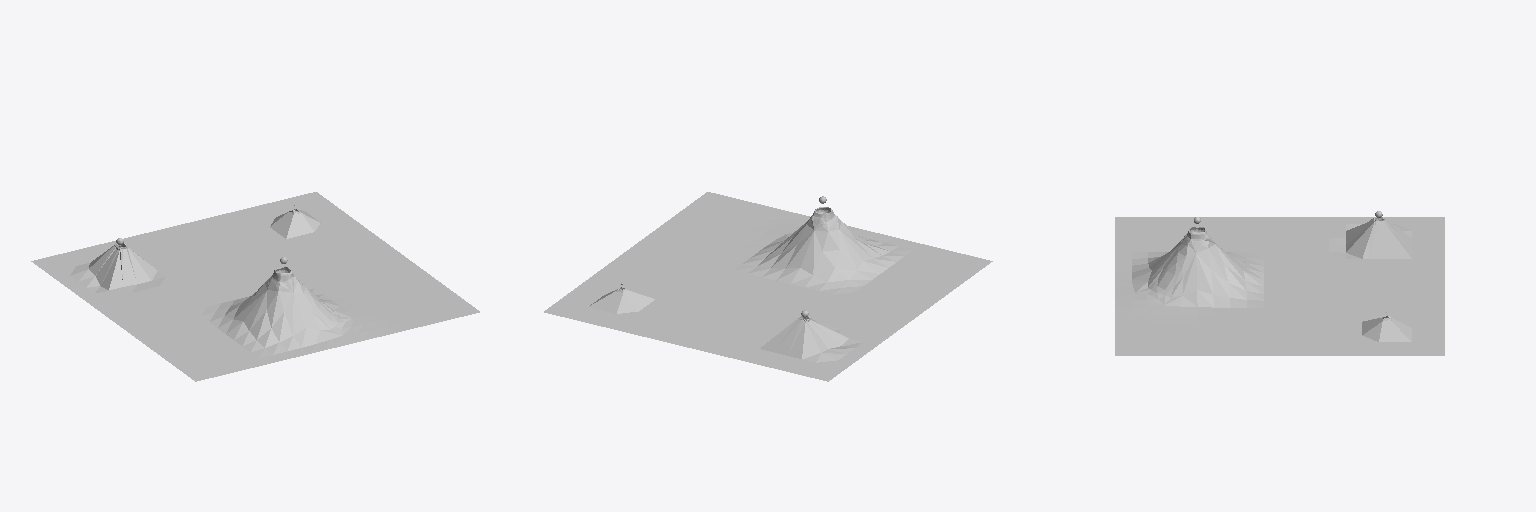
Rendered from ground.obj.
3 renders of one model, left to right at view 1: azimuth 30°, elevation 25°; view 2: azimuth 150°, elevation 25°; view 3: azimuth 270°, elevation 25°, orthographic.
Visible parts, largest first — view 1: pPlane2; view 2: pPlane2; view 3: pPlane2.
Part boxes in pixels (bbox=[...]): pPlane2: bbox=[31, 192, 479, 381]; pPlane2: bbox=[544, 192, 992, 381]; pPlane2: bbox=[1115, 211, 1444, 355].
Bounding box in the file's own units: 39.06 × 8.47 × 39.06.